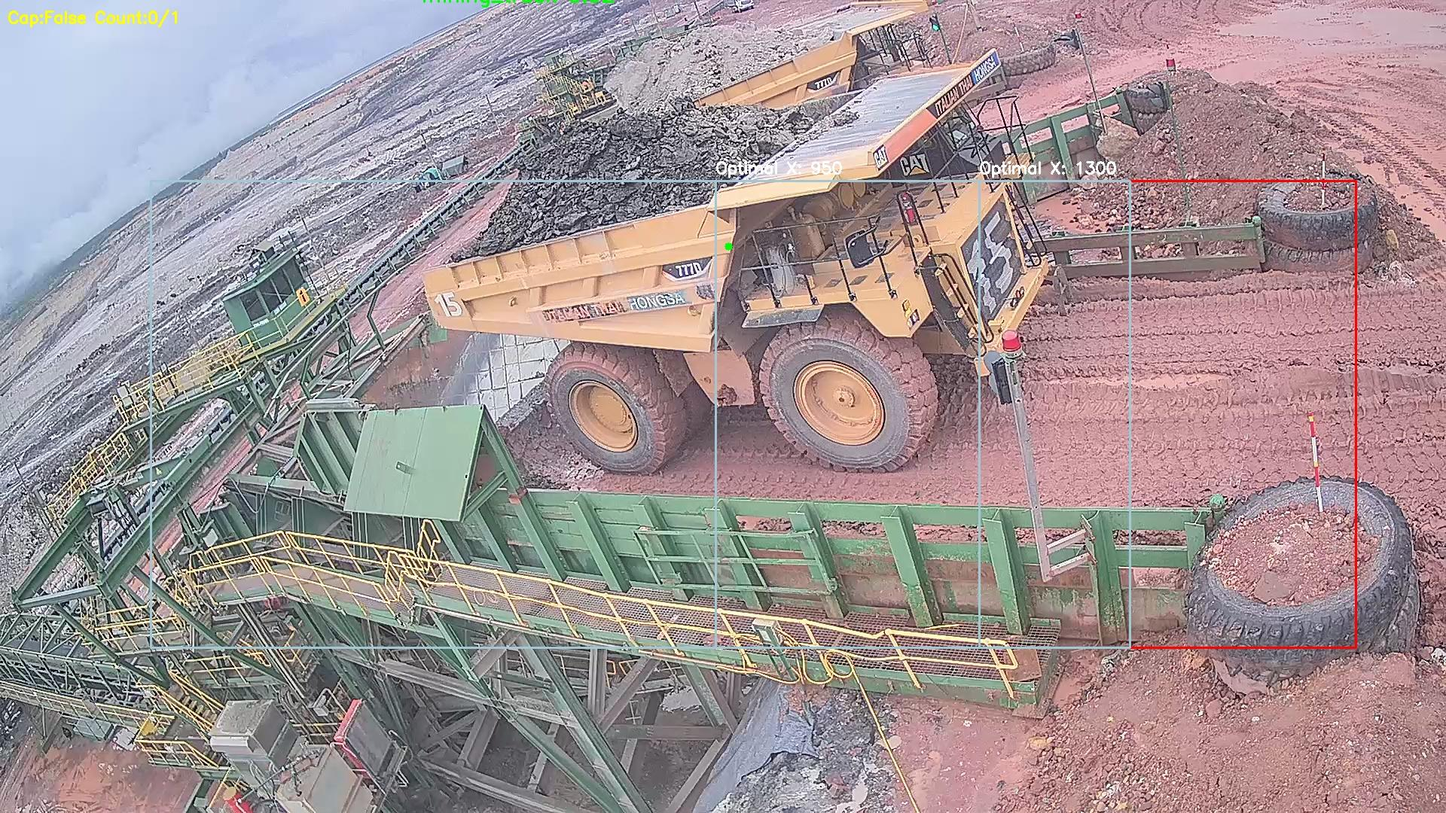company: (527, 286, 697, 326)
full_load: (502, 95, 740, 234)
mining_truck: (405, 48, 1093, 468)
tail_number: (426, 282, 474, 327)
truck_size: (651, 251, 724, 283)
